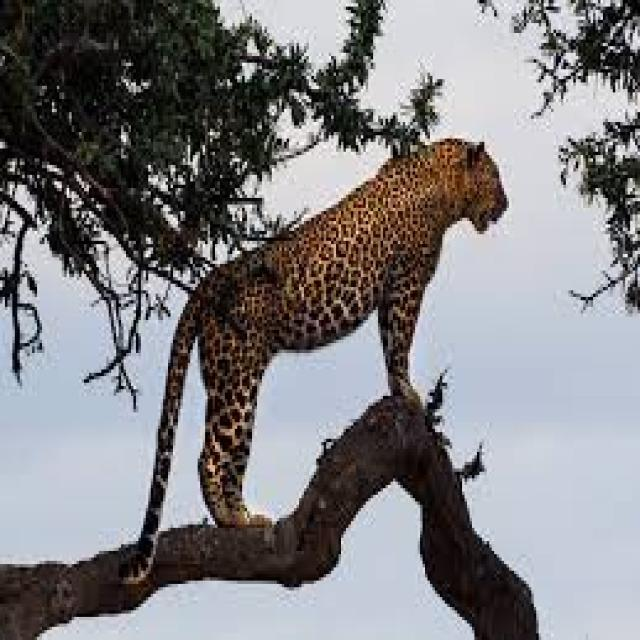Leopard: (122, 134, 515, 580)
